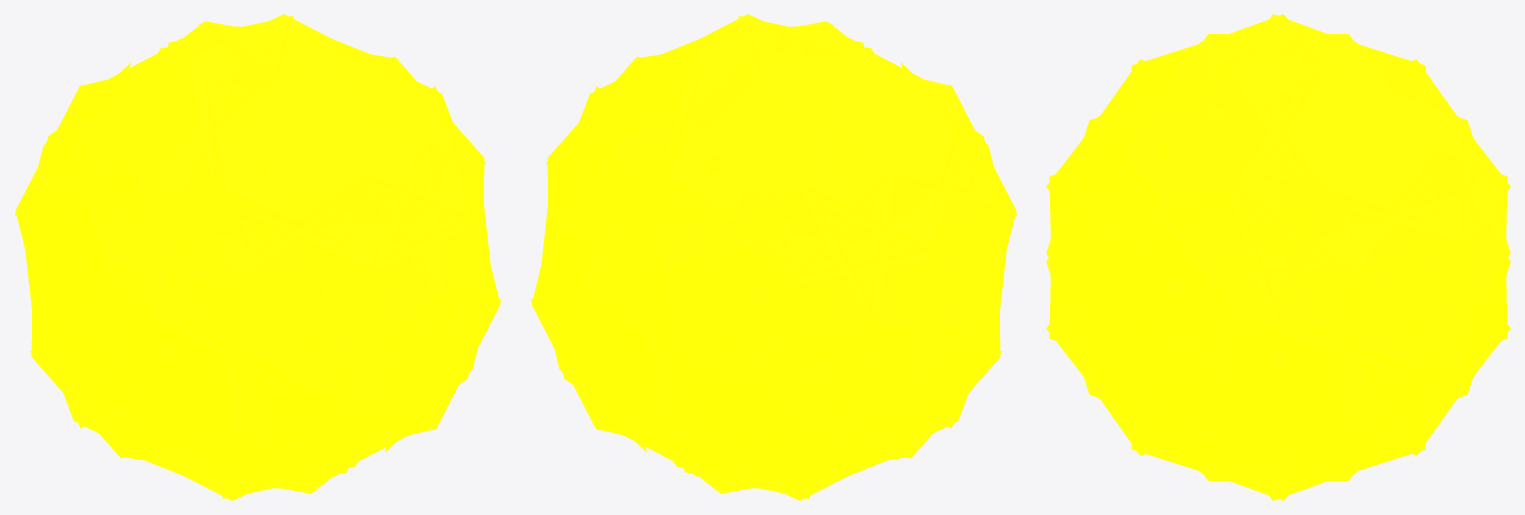
File: CollectibleStar.fbx
3 views of the same model, side by side, from view 1: azimuth 30°, elevation 25°; view 2: azimuth 150°, elevation 25°; view 3: azimuth 270°, elevation 25° (orthographic).
Parts seen in each view (by area): view 1: Icosphere.001; view 2: Icosphere.001; view 3: Icosphere.001.
Part boxes in pixels (<box>): Icosphere.001: <box>14,14,501,500</box>; Icosphere.001: <box>530,14,1017,500</box>; Icosphere.001: <box>1046,14,1510,500</box>.
Bounding box in the file's own units: 101 × 97.52 × 96.85.
